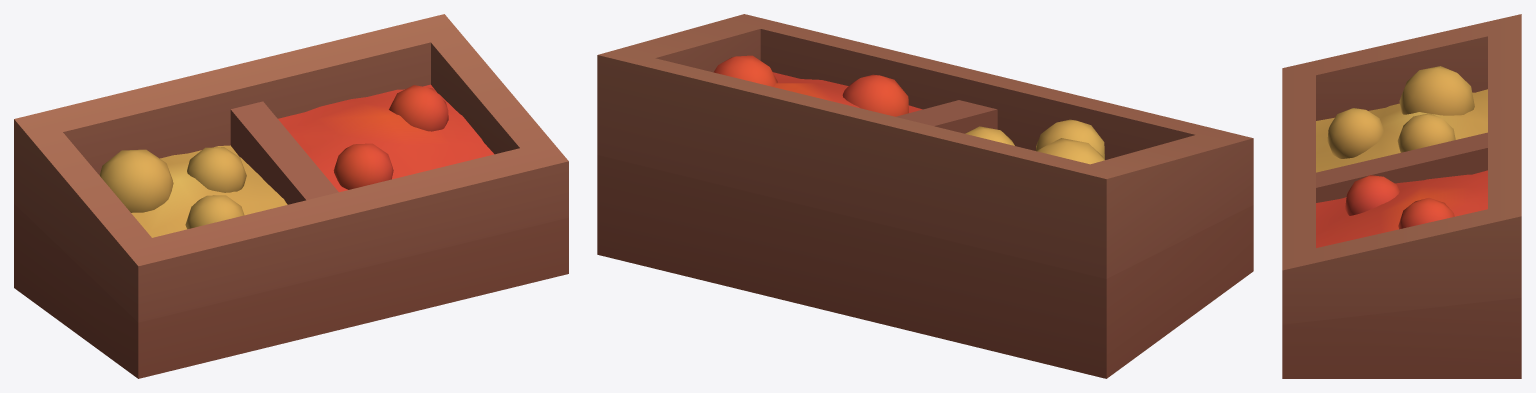
The model's file is kk_crate_long.glb.
3 renders of one model, left to right at view 1: azimuth 30°, elevation 25°; view 2: azimuth 150°, elevation 25°; view 3: azimuth 270°, elevation 25°, orthographic. The views are drawn at different scales.
Parts seen in each view (by area): view 1: crate_long_A; view 2: crate_long_A; view 3: crate_long_A.
Boxes of the visible parts, left/top/right/bottom form: crate_long_A: left=14, top=14, right=568, bottom=378; crate_long_A: left=597, top=14, right=1253, bottom=378; crate_long_A: left=1282, top=14, right=1521, bottom=378.
Size of the model in its own units: 0.4 by 0.15 by 0.2.
1 material, 1 textured.
